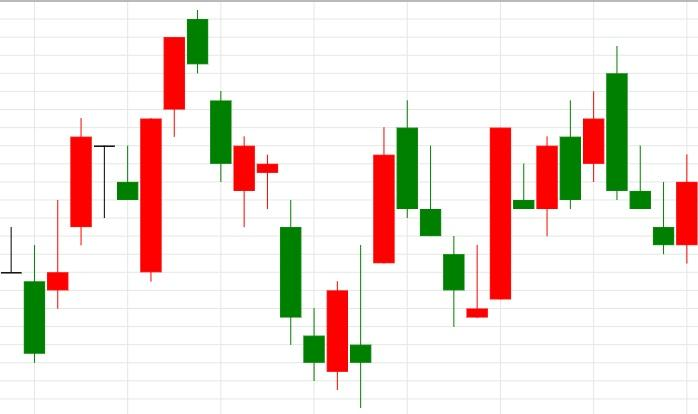bearish_engulfing_fall: (466, 46, 628, 319)
bullish_engulfing_rise: (186, 10, 349, 390), (606, 45, 698, 264)
three_black_crows_fall: (466, 46, 675, 318), (349, 100, 466, 408)
